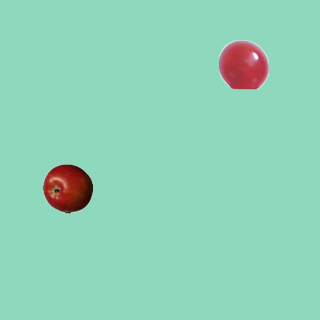Apple Braeburn: (42, 163, 92, 213)
Redcurrant: (218, 39, 268, 89)
